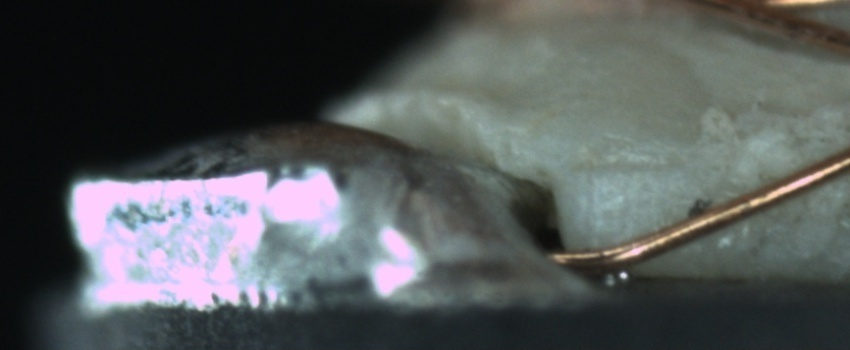DL: (572, 139, 693, 196)
